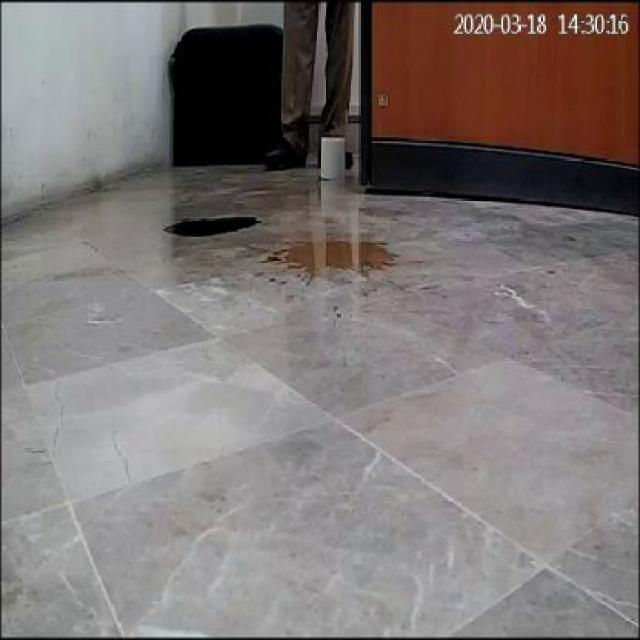spill: (262, 230, 406, 272), (168, 210, 257, 238)
